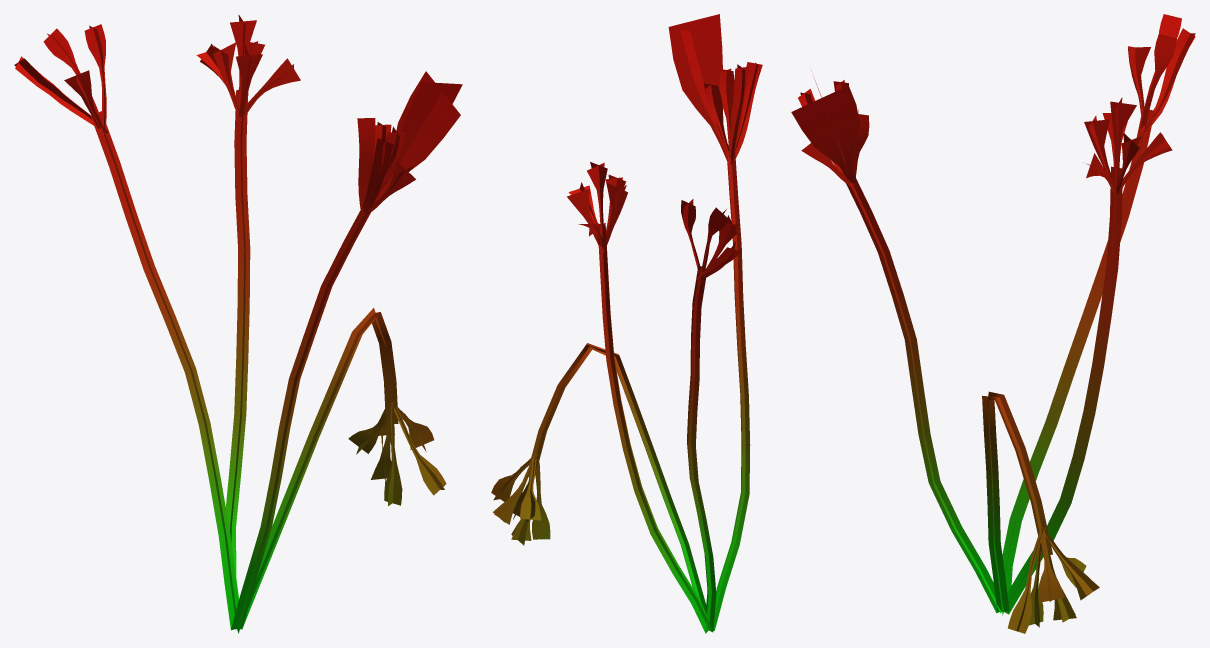
File: Carnation Weed_LOD1_Var1_smdpecor.fbx
The picture shows the model from 3 angles, left to right: view 1: azimuth 30°, elevation 25°; view 2: azimuth 150°, elevation 25°; view 3: azimuth 270°, elevation 25°; orthographic projection. The views are drawn at different scales.
Parts seen in each view (by area): view 1: _3d2d_Var1_LOD1; view 2: _3d2d_Var1_LOD1; view 3: _3d2d_Var1_LOD1.
Boxes of the visible parts, x1,y1,x2,y2 form: _3d2d_Var1_LOD1: [14, 14, 462, 633]; _3d2d_Var1_LOD1: [491, 14, 762, 633]; _3d2d_Var1_LOD1: [791, 14, 1195, 633].
Bounding box in the file's own units: 19.66 × 32.17 × 19.95.
